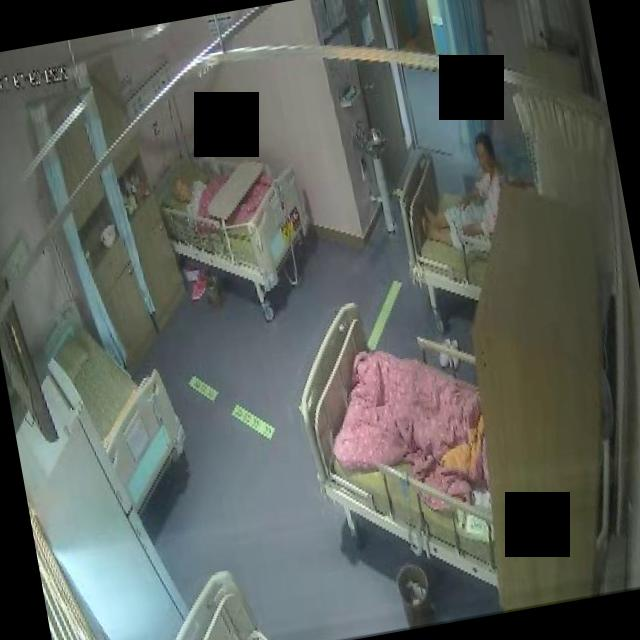bed: (284, 284, 508, 576), (150, 115, 332, 328), (46, 306, 198, 526), (388, 136, 514, 312)
patient: (406, 132, 522, 264), (166, 172, 218, 225)
sit: (409, 136, 522, 260)
